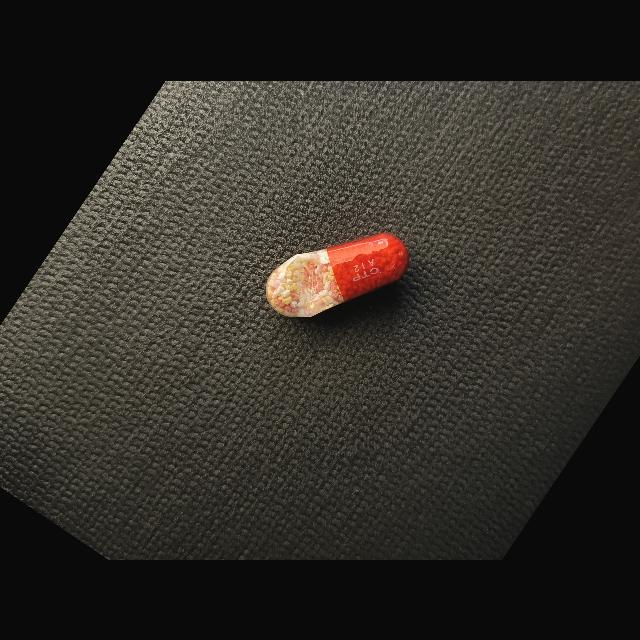Defective Capsule: (266, 233, 410, 316)
